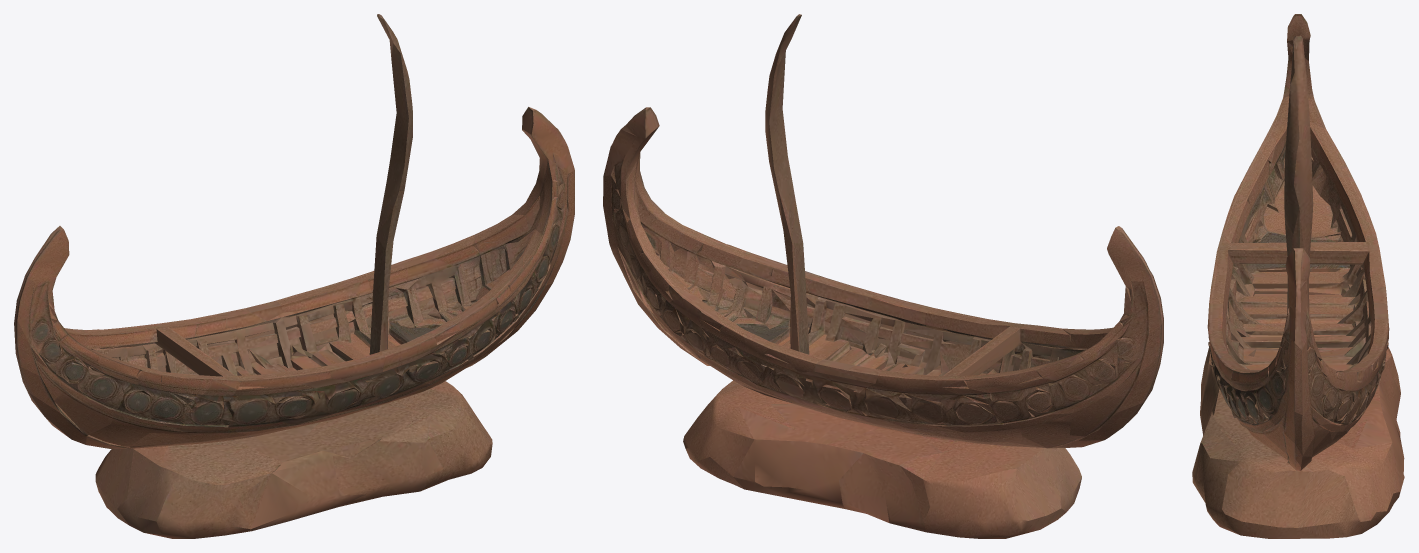
File: boat.glb
The picture shows the model from 3 angles, left to right: view 1: azimuth 30°, elevation 25°; view 2: azimuth 150°, elevation 25°; view 3: azimuth 270°, elevation 25°; orthographic projection. The views are drawn at different scales.
Parts seen in each view (by area): view 1: mesh_node; view 2: mesh_node; view 3: mesh_node.
Boxes of the visible parts, box(x1,y1,x2,y2) form: mesh_node: box(14, 14, 574, 538); mesh_node: box(603, 14, 1163, 538); mesh_node: box(1192, 14, 1404, 538).
Bounding box in the file's own units: 1.9 × 1.43 × 0.6021.
Materials: 1 (1 with a texture image).
